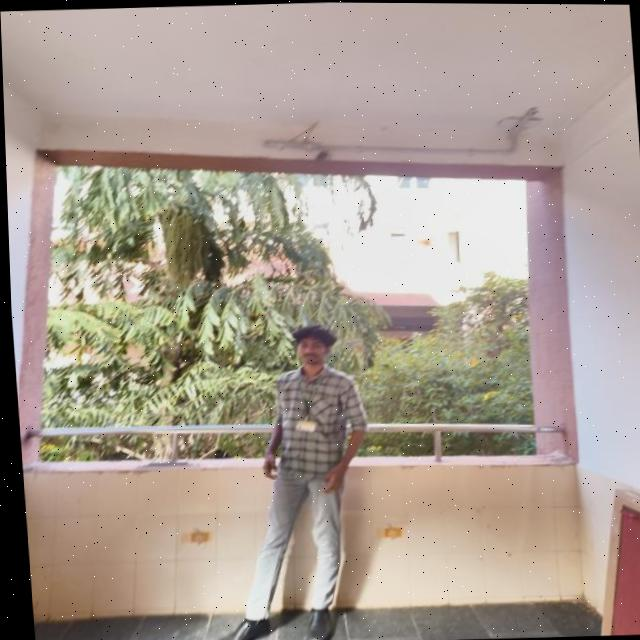id_card: (285, 369, 322, 440)
